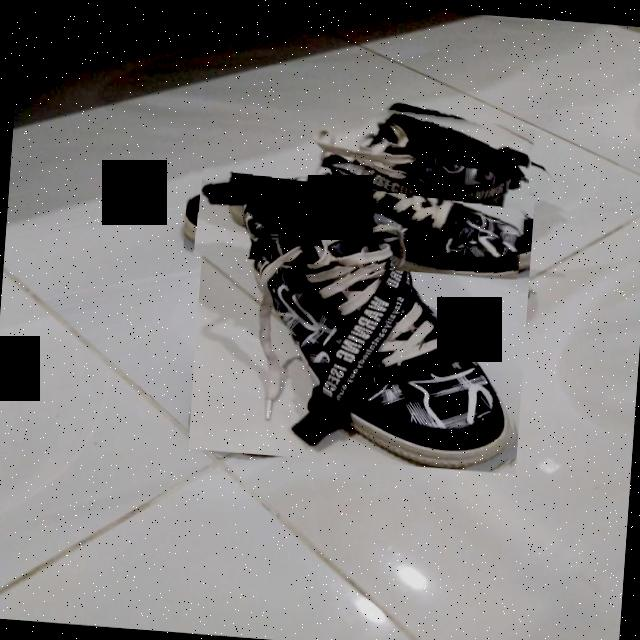shoe: (188, 167, 534, 474), (183, 84, 536, 279)
